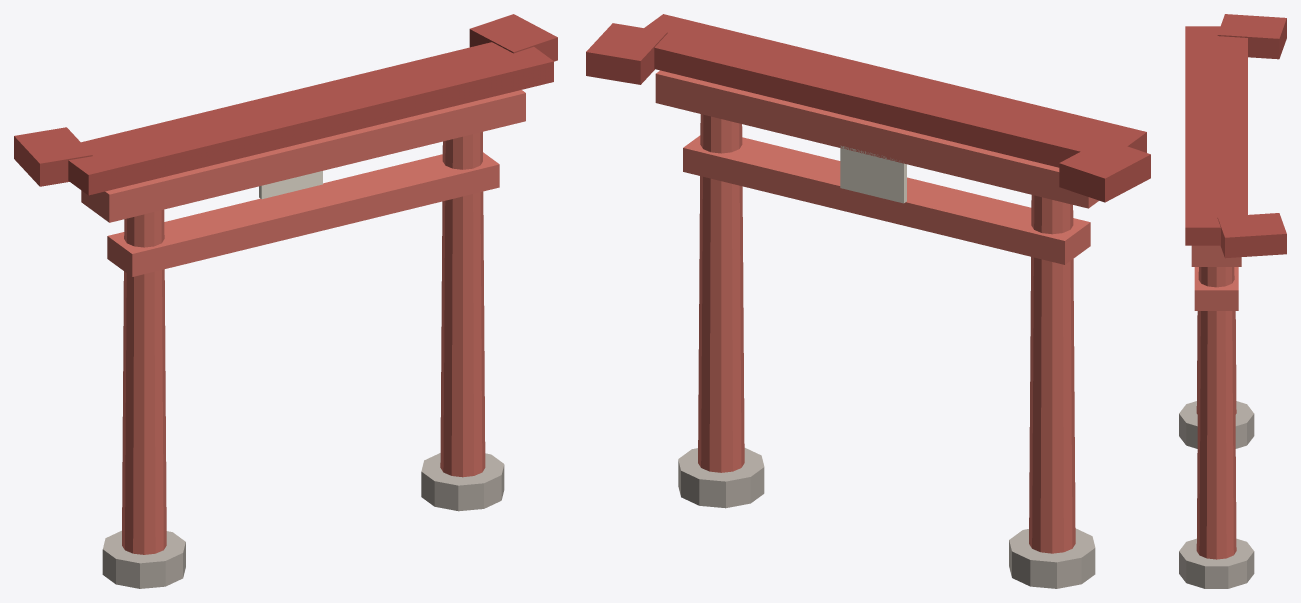
The model's file is torii_red.glb.
3 renders of one model, left to right at view 1: azimuth 30°, elevation 25°; view 2: azimuth 150°, elevation 25°; view 3: azimuth 270°, elevation 25°, orthographic. The views are drawn at different scales.
Visible parts, largest first — view 1: Torii; view 2: Torii; view 3: Torii.
Boxes of the visible parts, box(x1,y1,x2,y2) form: Torii: box(14, 14, 557, 588); Torii: box(586, 14, 1150, 588); Torii: box(1179, 14, 1286, 588).
Size of the model in its own units: 4.23 by 3.34 by 0.861.
